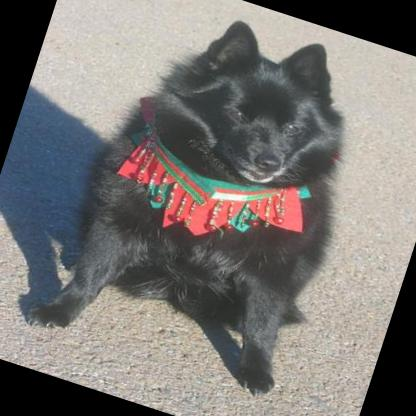schipperke: (23, 0, 388, 401)
